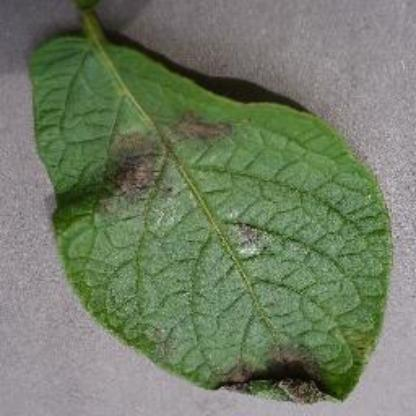Late-Blight: (21, 23, 383, 399)
